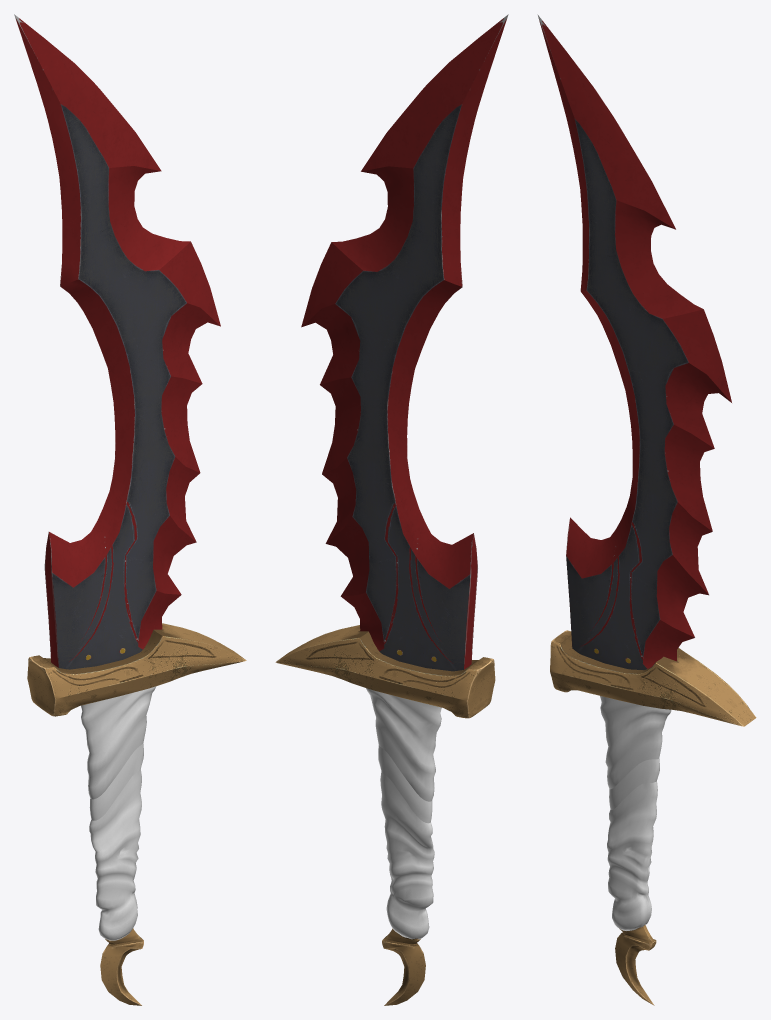
Rendered from John dagger.fbx.
3 views of the same model, side by side, from view 1: azimuth 30°, elevation 25°; view 2: azimuth 150°, elevation 25°; view 3: azimuth 330°, elevation 25° (orthographic). The views are drawn at different scales.
Parts seen in each view (by area): view 1: Blade_low, Handle_low, clamp_low, End_low; view 2: Blade_low, Handle_low, clamp_low, End_low; view 3: Blade_low, Handle_low, clamp_low, End_low.
Boxes of the visible parts, box(x1,y1,x2,y2) form: Blade_low: box(14, 14, 220, 669); Handle_low: box(81, 686, 156, 940); clamp_low: box(27, 623, 246, 716); End_low: box(100, 928, 143, 1005); Blade_low: box(301, 14, 508, 671); Handle_low: box(366, 688, 441, 939); clamp_low: box(275, 625, 495, 718); End_low: box(382, 928, 425, 1005); Blade_low: box(537, 14, 731, 670); Handle_low: box(600, 696, 671, 930); clamp_low: box(550, 630, 756, 726); End_low: box(615, 925, 656, 1005).
Bounding box in the file's own units: 112 × 485 × 24.83.
